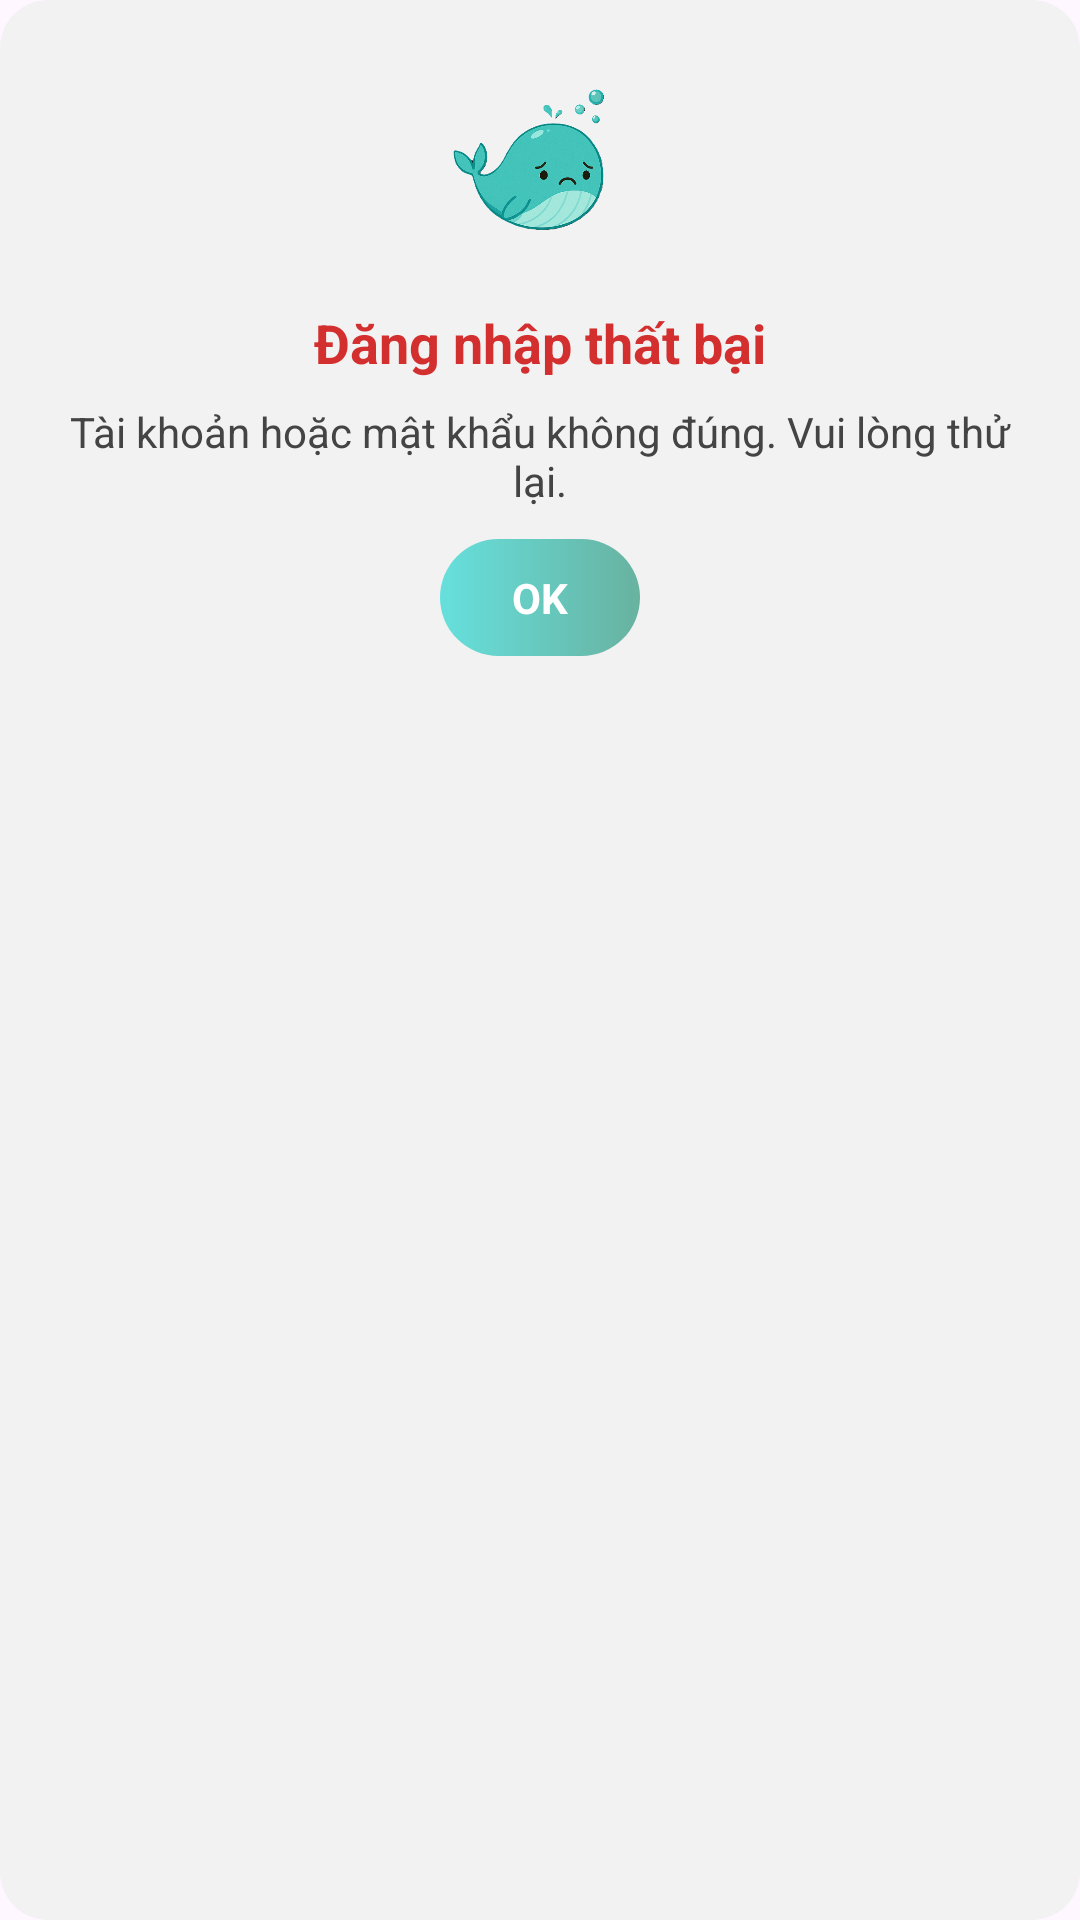

Icons on this 1080×1920 Android screen, each with the point to tap as point (x, y):
whale buon: point (528, 159)
